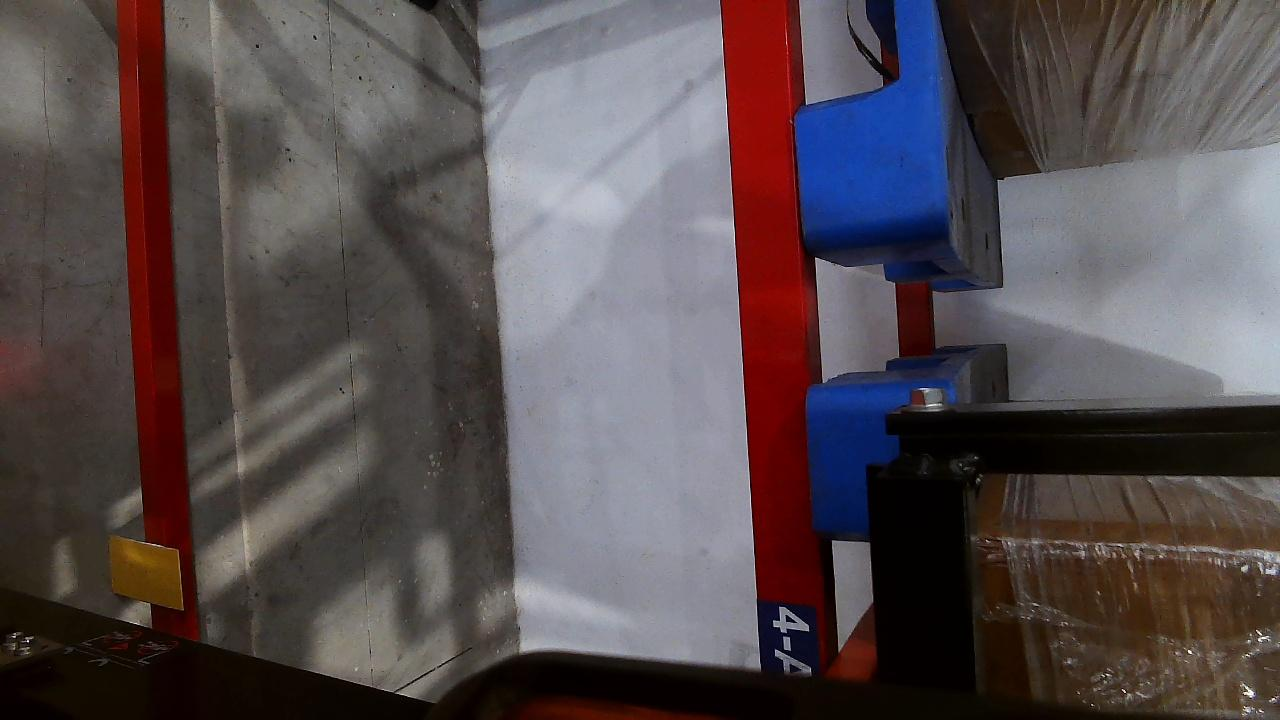h_rack: (718, 0, 821, 657), (114, 0, 195, 638)
orange_strip: (109, 533, 182, 608)
small_pallet: (787, 0, 953, 238)
